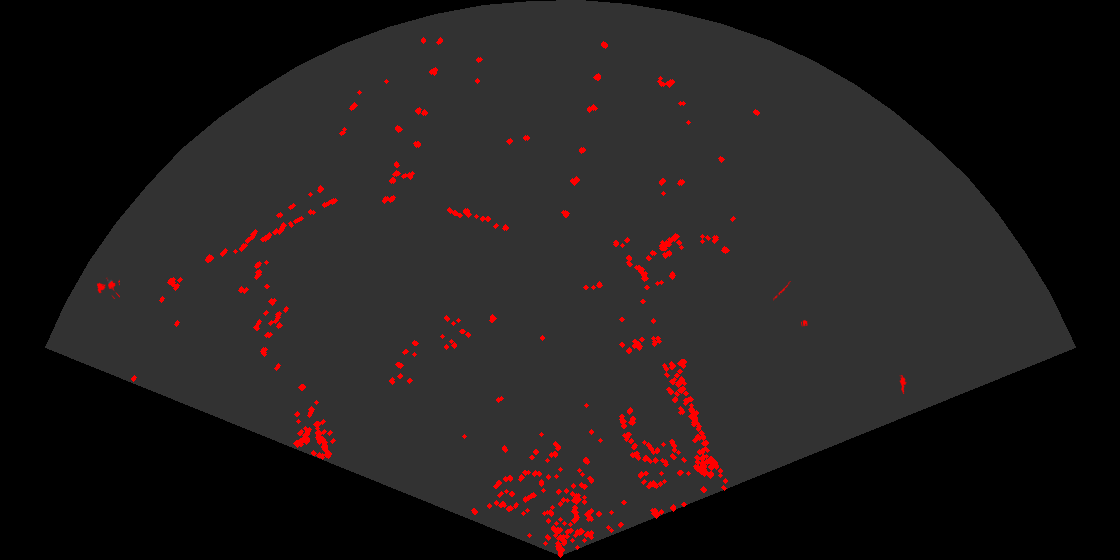ball: (799, 318, 808, 328)
cage: (95, 276, 120, 299)
chain: (773, 281, 793, 301)
frogman: (898, 375, 908, 394)
